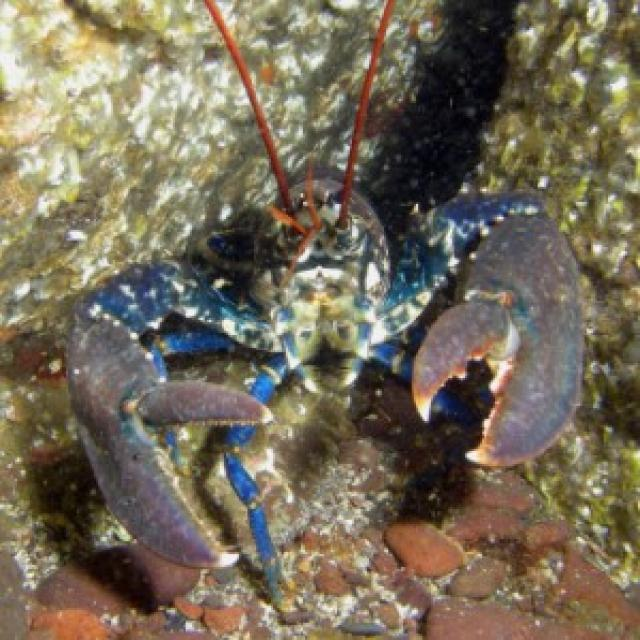lobsters: (30, 29, 640, 624)
